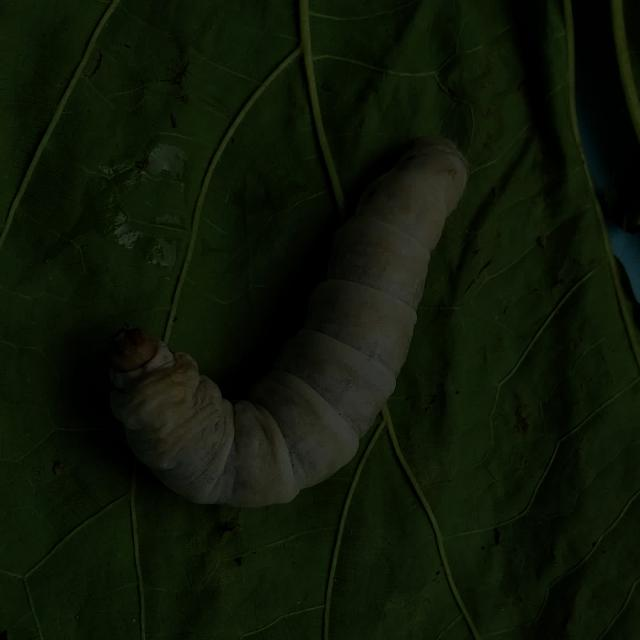Grasserie: (94, 116, 474, 514)
